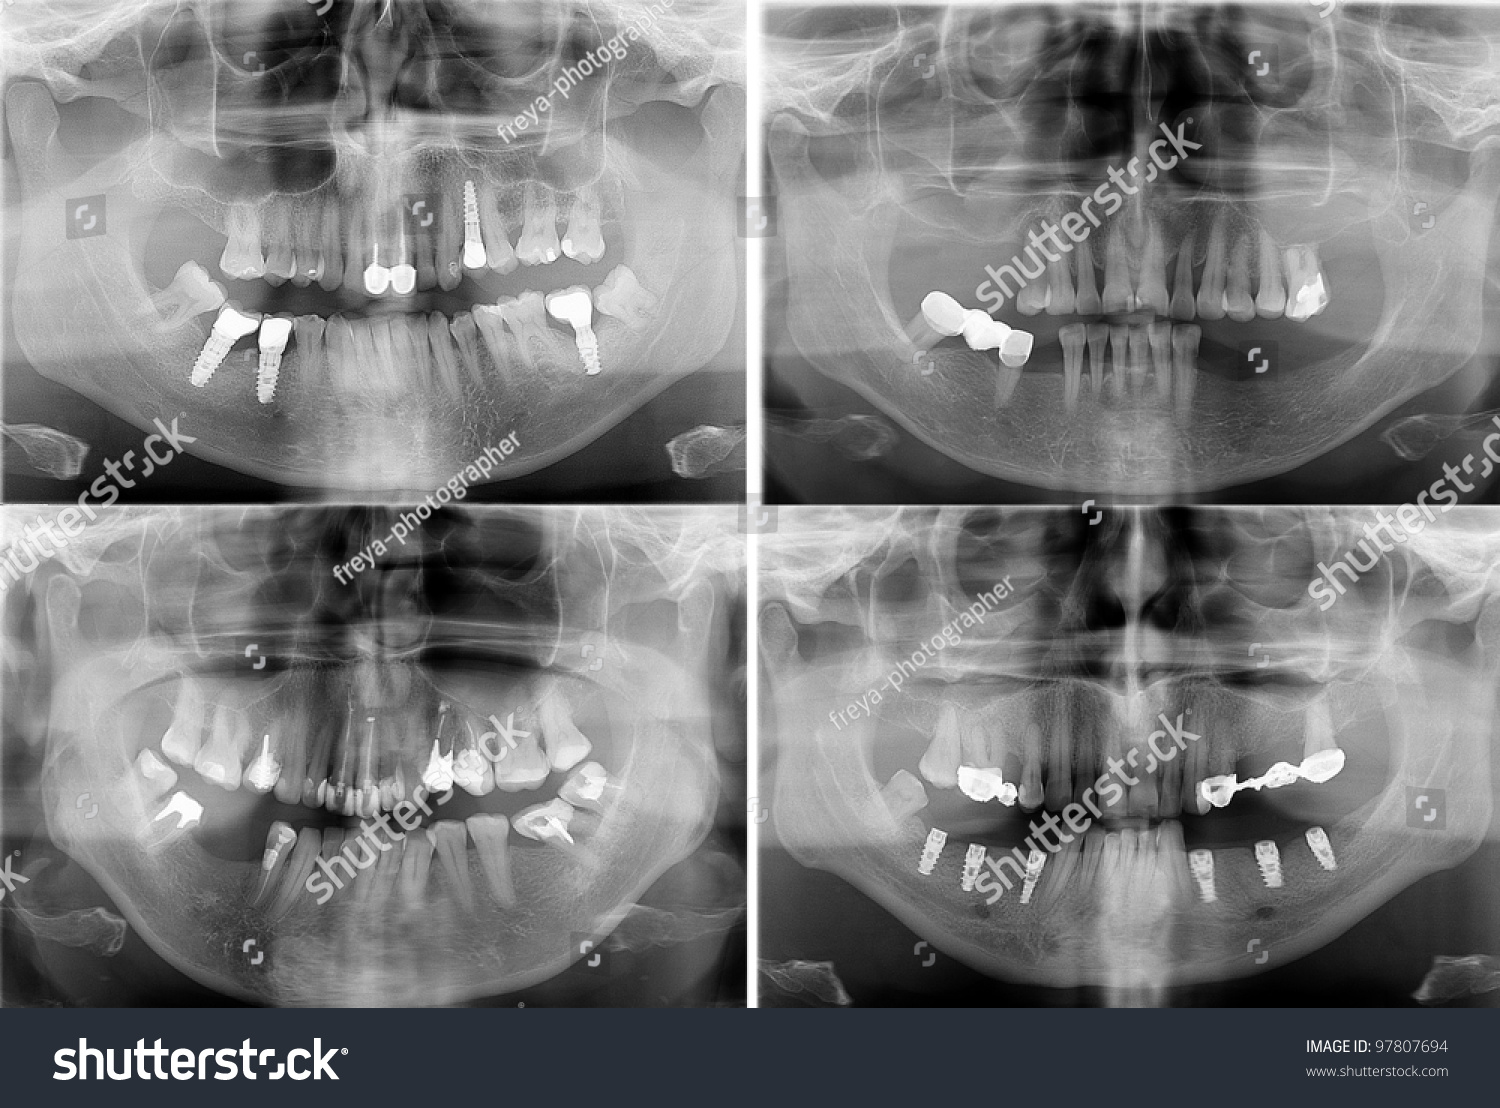canine: (425, 301, 464, 422), (394, 818, 434, 932), (1200, 191, 1231, 326), (1155, 818, 1197, 919), (326, 304, 358, 435), (1047, 193, 1080, 319), (431, 191, 465, 292), (295, 819, 321, 934), (317, 188, 345, 296), (280, 708, 307, 809), (1057, 814, 1078, 911)
incisor: (346, 305, 392, 418), (1097, 200, 1135, 313), (406, 304, 437, 416), (1161, 699, 1186, 831), (388, 306, 418, 412), (338, 193, 367, 303), (1130, 711, 1156, 830), (1137, 211, 1167, 316), (1099, 724, 1125, 844), (1137, 824, 1163, 936), (1149, 316, 1177, 422), (1076, 199, 1102, 315), (361, 821, 392, 913), (342, 823, 370, 923), (369, 310, 399, 398), (410, 205, 437, 304), (321, 817, 346, 922), (1128, 318, 1158, 405), (1174, 214, 1194, 329), (1085, 823, 1105, 934), (1087, 315, 1111, 403), (1106, 322, 1133, 400), (380, 825, 403, 906), (1105, 830, 1123, 906), (1119, 821, 1137, 897)
molar: (142, 246, 227, 355), (507, 793, 602, 885), (508, 161, 572, 274), (494, 685, 553, 799), (498, 280, 565, 381), (215, 188, 277, 287), (554, 761, 641, 827), (533, 683, 594, 775), (588, 266, 658, 338), (143, 786, 207, 861), (559, 185, 616, 267), (196, 686, 240, 791), (1278, 242, 1333, 325), (116, 742, 175, 810), (160, 673, 201, 761)
premolar: (470, 810, 540, 940), (469, 282, 510, 394), (431, 816, 477, 912), (1014, 193, 1049, 322), (1246, 219, 1289, 316), (1056, 317, 1095, 424), (297, 191, 332, 303), (483, 181, 519, 280), (452, 298, 486, 401), (288, 302, 328, 382), (261, 192, 292, 296), (1227, 223, 1258, 329), (1019, 710, 1049, 811)
